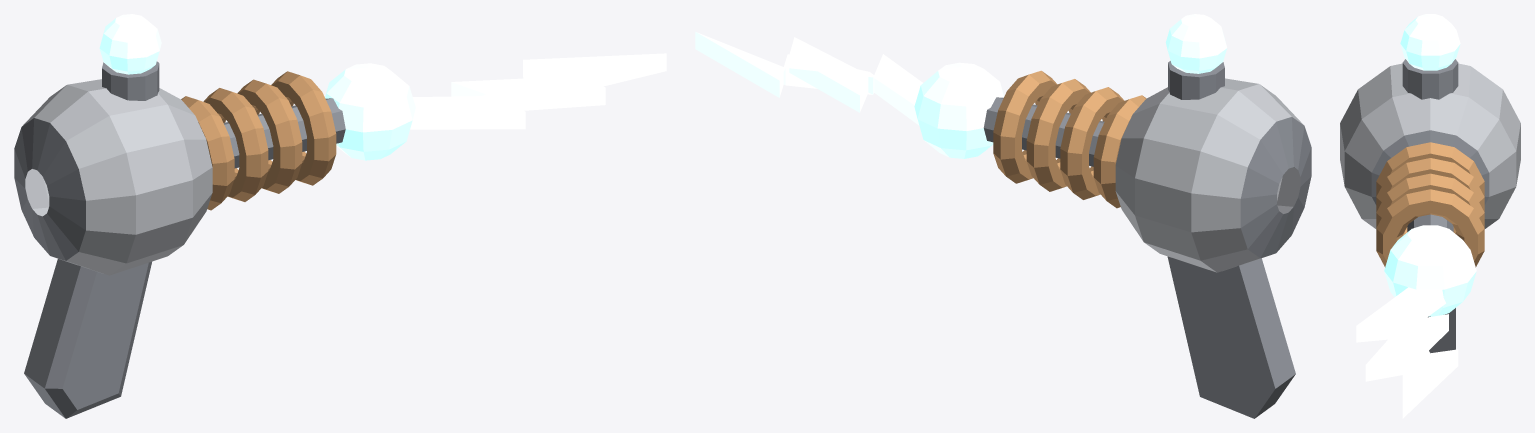
Rendered from item_lightning.glb.
3 views of the same model, side by side, from view 1: azimuth 30°, elevation 25°; view 2: azimuth 150°, elevation 25°; view 3: azimuth 270°, elevation 25° (orthographic). The views are drawn at different scales.
Parts seen in each view (by area): view 1: item_lightning; view 2: item_lightning; view 3: item_lightning.
Boxes of the visible parts, bbox=[...] form: item_lightning: bbox=[14, 14, 666, 418]; item_lightning: bbox=[695, 14, 1311, 418]; item_lightning: bbox=[1340, 14, 1520, 418].
Bounding box in the file's own units: 1.45 × 0.855 × 0.39.
